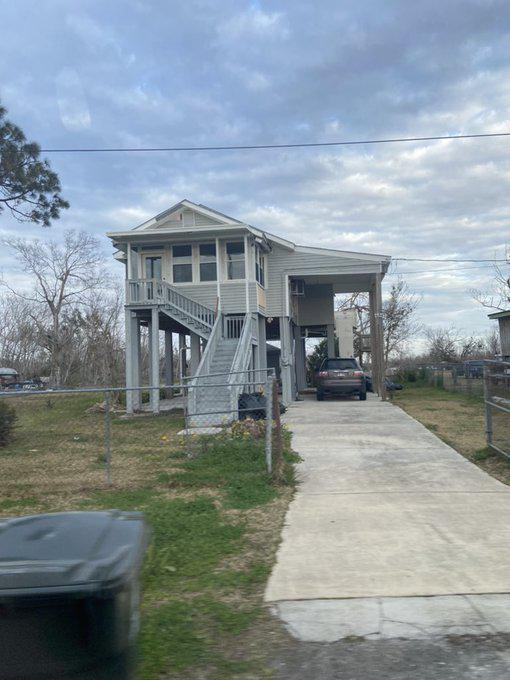minor: (106, 198, 392, 433)
